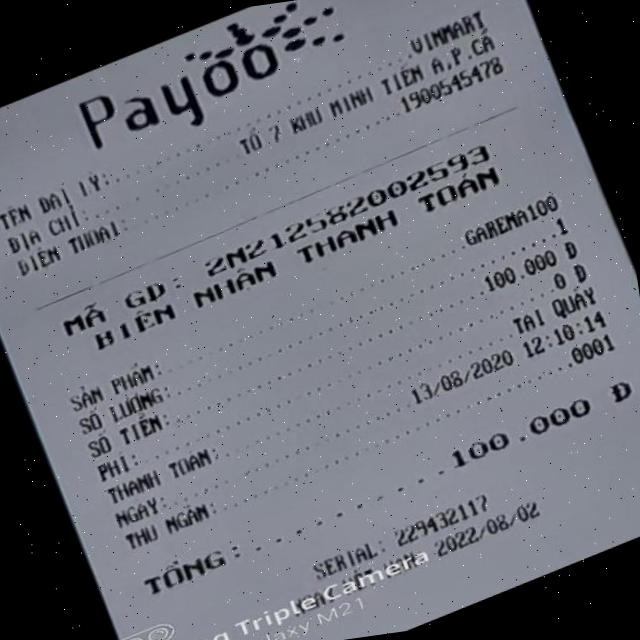Date: (418, 478, 581, 566)
Store_Name: (59, 35, 298, 158)
amount_number: (427, 366, 640, 484)
label_total: (118, 536, 245, 603)
